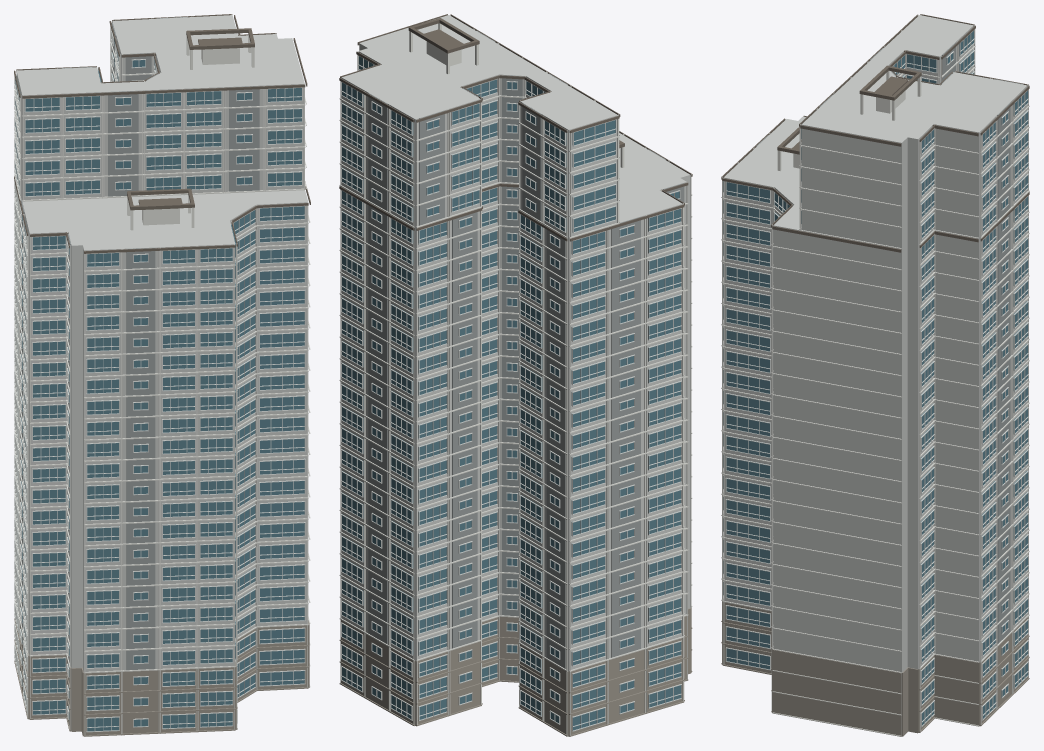
The model's file is bespoke-banpo-xi-116.glb.
3 views of the same model, side by side, from view 1: azimuth 30°, elevation 25°; view 2: azimuth 150°, elevation 25°; view 3: azimuth 270°, elevation 25° (orthographic). The views are drawn at different scales.
Visible parts, largest first — view 1: BX116_editable_BX116_pale_silver_limestone, BX116_editable_BX116_blue_grey_broad_glazing, BX116_editable_BX116_white_window_frames, BX116_editable_BX116_ivory_course_bands, BX116_editable_BX116_grey_service_core, BX116_editable_BX116_warm_ground_stone, BX116_editable_BX116_dark_coping; view 2: BX116_editable_BX116_blue_grey_broad_glazing, BX116_editable_BX116_pale_silver_limestone, BX116_editable_BX116_white_window_frames, BX116_editable_BX116_grey_service_core, BX116_editable_BX116_ivory_course_bands, BX116_editable_BX116_warm_ground_stone, BX116_editable_BX116_dark_coping; view 3: BX116_editable_BX116_pale_silver_limestone, BX116_editable_BX116_blue_grey_broad_glazing, BX116_editable_BX116_ivory_course_bands, BX116_editable_BX116_white_window_frames, BX116_editable_BX116_warm_ground_stone, BX116_editable_BX116_grey_service_core, BX116_editable_BX116_dark_coping.
Boxes of the visible parts, x1,y1,x2,y2 form: BX116_editable_BX116_pale_silver_limestone: (16,15,308,730); BX116_editable_BX116_blue_grey_broad_glazing: (15,39,304,731); BX116_editable_BX116_white_window_frames: (14,31,305,732); BX116_editable_BX116_ivory_course_bands: (14,14,310,735); BX116_editable_BX116_grey_service_core: (20,16,259,670); BX116_editable_BX116_warm_ground_stone: (14,618,309,736); BX116_editable_BX116_dark_coping: (14,14,310,253); BX116_editable_BX116_blue_grey_broad_glazing: (342,56,680,730); BX116_editable_BX116_pale_silver_limestone: (341,15,690,725); BX116_editable_BX116_white_window_frames: (341,55,681,731); BX116_editable_BX116_grey_service_core: (368,30,684,668); BX116_editable_BX116_ivory_course_bands: (339,14,692,736); BX116_editable_BX116_warm_ground_stone: (339,607,692,736); BX116_editable_BX116_dark_coping: (339,14,692,241); BX116_editable_BX116_pale_silver_limestone: (723,15,1027,736); BX116_editable_BX116_blue_grey_broad_glazing: (723,31,1027,725); BX116_editable_BX116_ivory_course_bands: (721,14,1029,736); BX116_editable_BX116_white_window_frames: (723,29,1028,727); BX116_editable_BX116_warm_ground_stone: (721,601,1029,736); BX116_editable_BX116_grey_service_core: (756,43,1023,643); BX116_editable_BX116_dark_coping: (721,14,1029,252).
Bounding box in the file's own units: 39.16 × 78.5 × 35.58.
